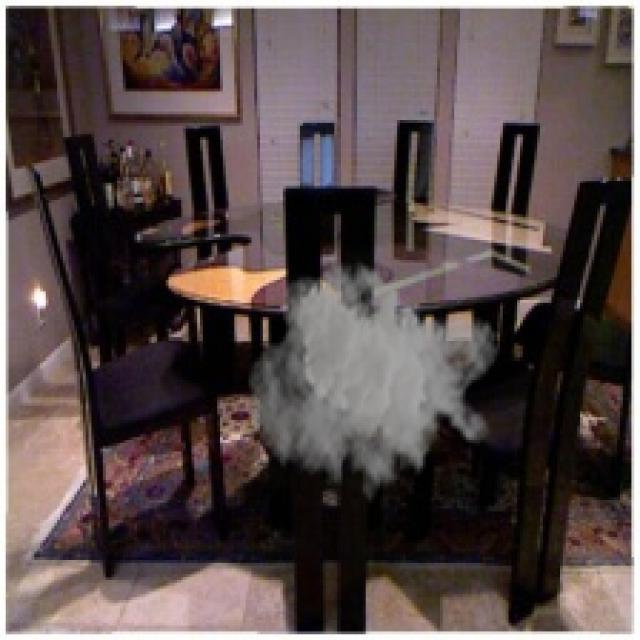smoke: (246, 252, 500, 512)
